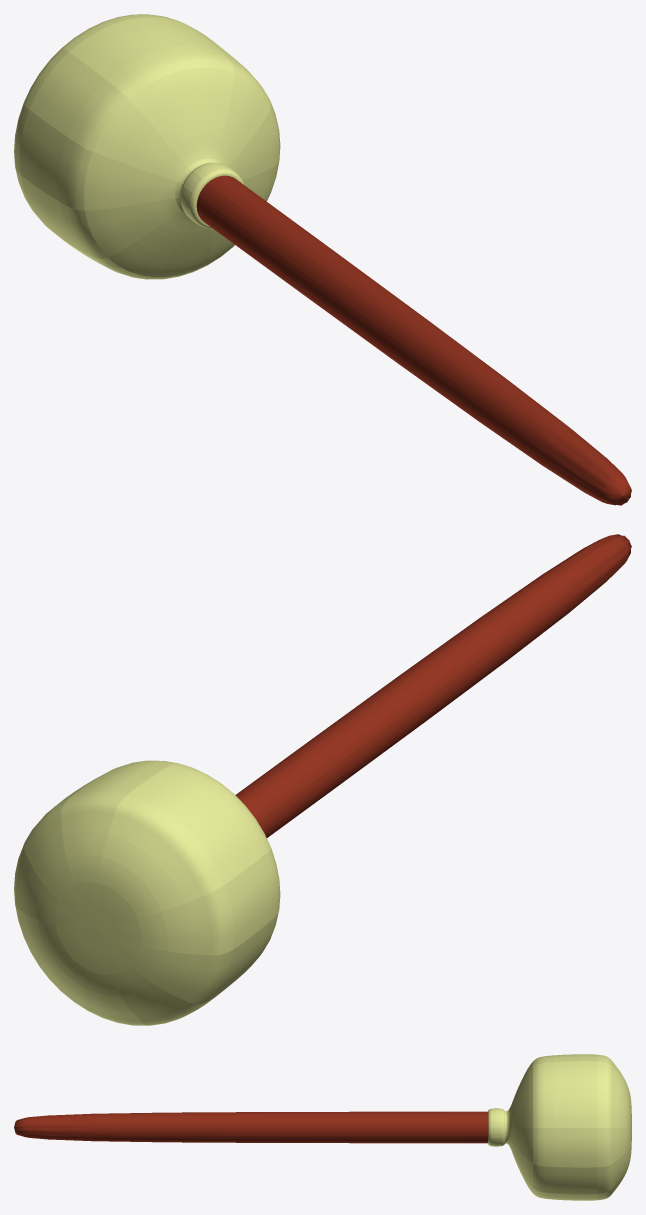
File: paleta.fbx
3 views of the same model, one above another, from view 1: azimuth 30°, elevation 25°; view 2: azimuth 150°, elevation 25°; view 3: azimuth 270°, elevation 25° (orthographic). The views are drawn at different scales.
Parts seen in each view (by area): view 1: paleta; view 2: paleta; view 3: paleta.
Part boxes in pixels (bbox=[...]): paleta: bbox=[14, 14, 631, 505]; paleta: bbox=[14, 534, 631, 1025]; paleta: bbox=[14, 1054, 631, 1200].
Size of the model in its own units: 24841 by 24842 by 104770.
